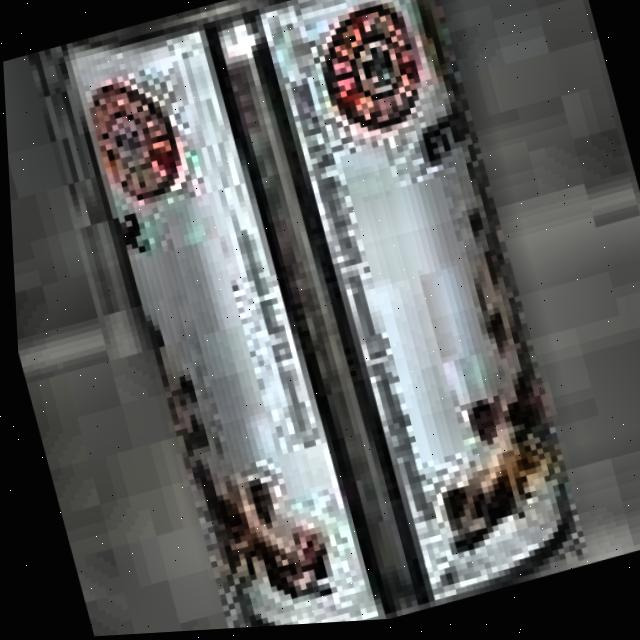metal: (52, 0, 591, 638)
